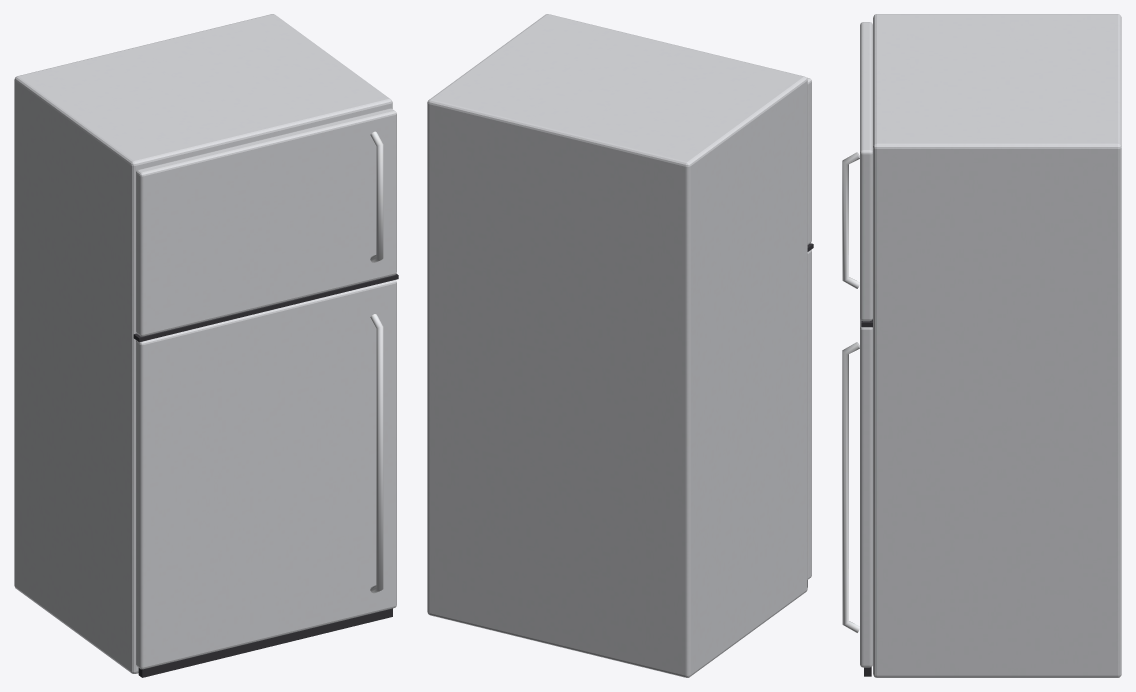
The model's file is fridge.glb.
The picture shows the model from 3 angles, left to right: view 1: azimuth 30°, elevation 25°; view 2: azimuth 150°, elevation 25°; view 3: azimuth 270°, elevation 25°; orthographic projection. The views are drawn at different scales.
Visible parts, largest first — view 1: fridge; view 2: fridge; view 3: fridge.
Part boxes in pixels (x1,y1,x2,y2): fridge: (14,14,398,677); fridge: (427,14,813,677); fridge: (842,14,1121,677).
Size of the model in its own units: 24 by 45 by 21.36.
Materials: 1 (1 with a texture image).
